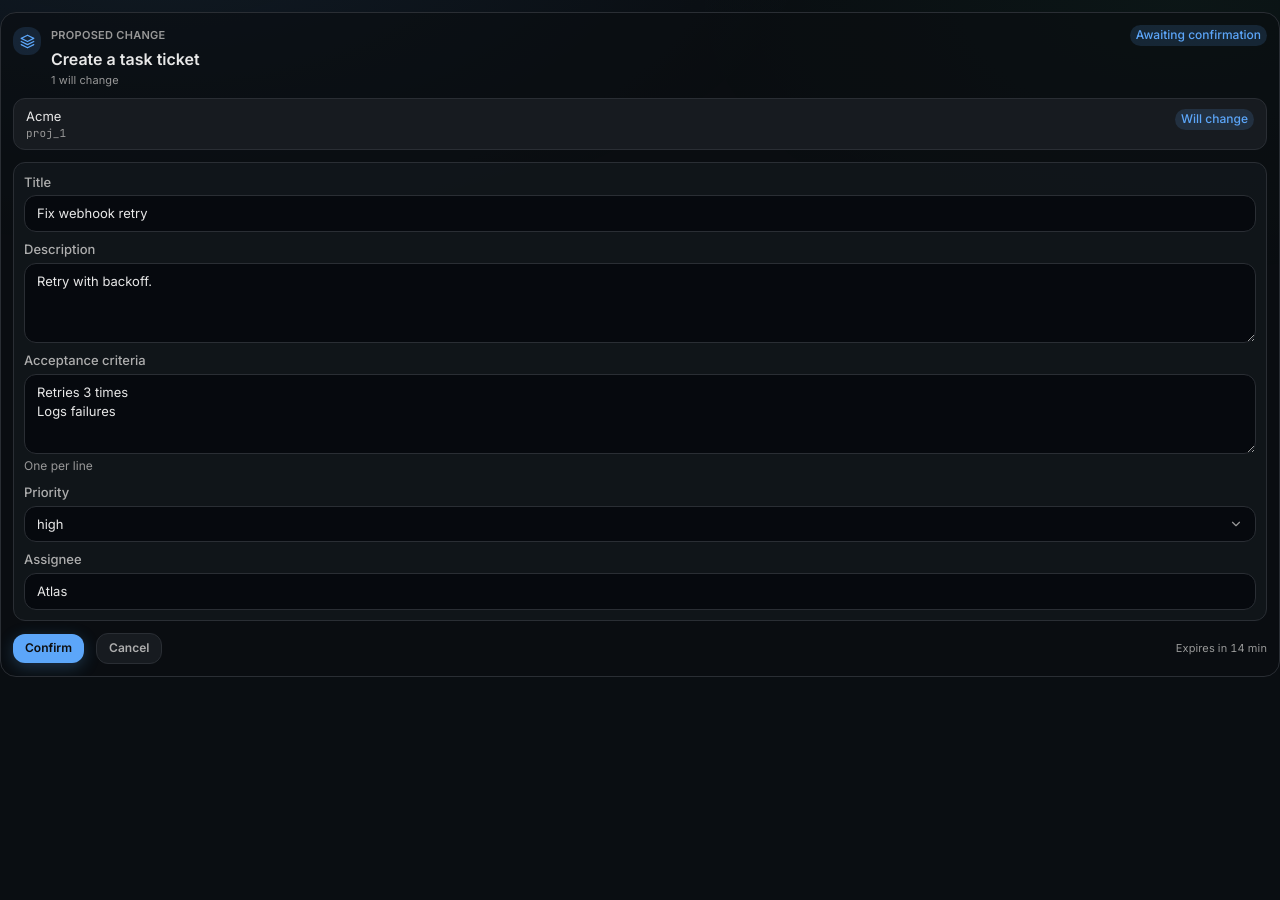
Test: HelperActionCard › confirm sends the edited create-ticket body and links the new ticket
Replace the text in the field labelled "Title" with "Add retry with exponential backoff": {"x": 640, "y": 214} [24, 195, 1256, 232]
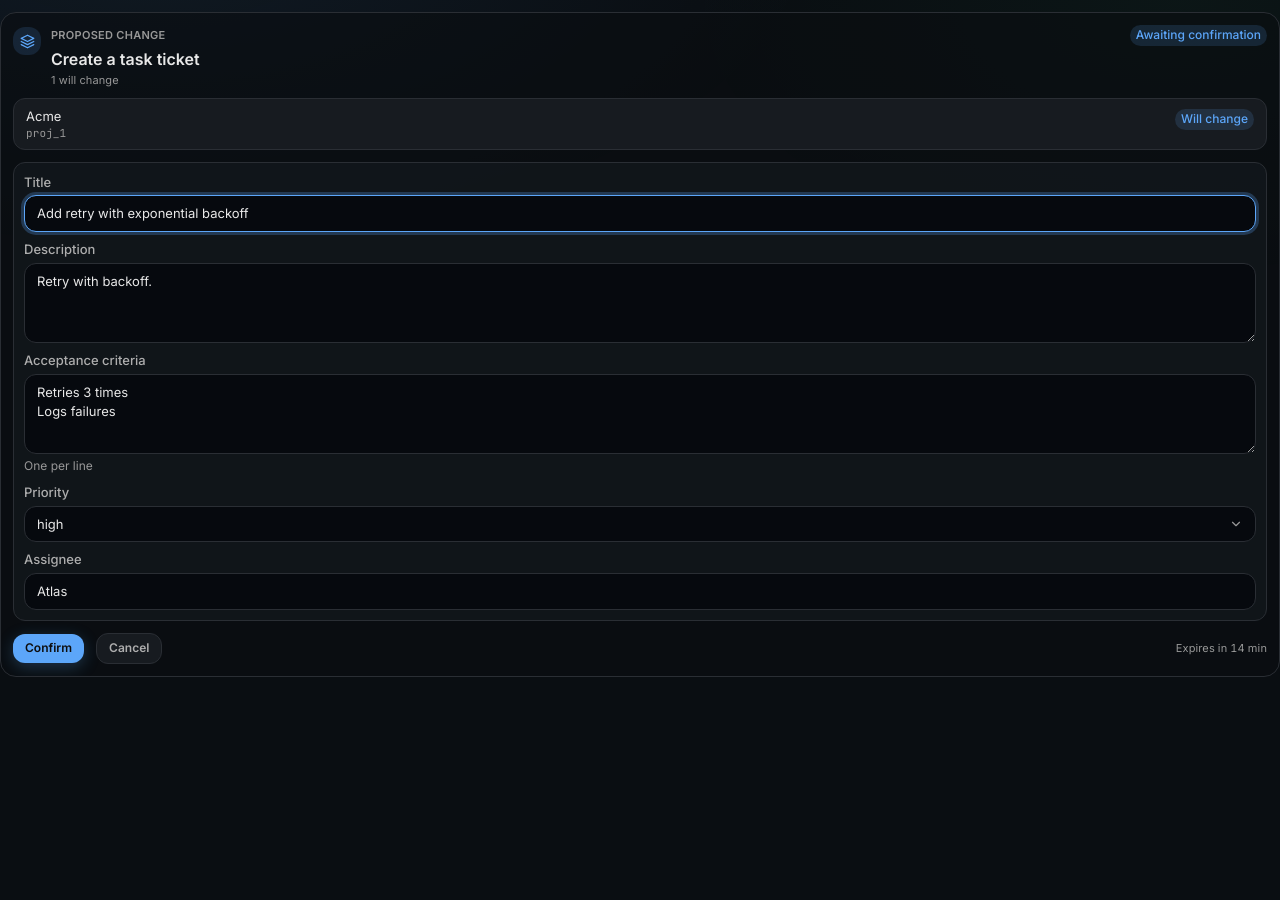
Click the button "Confirm": {"x": 49, "y": 648} [13, 634, 84, 663]
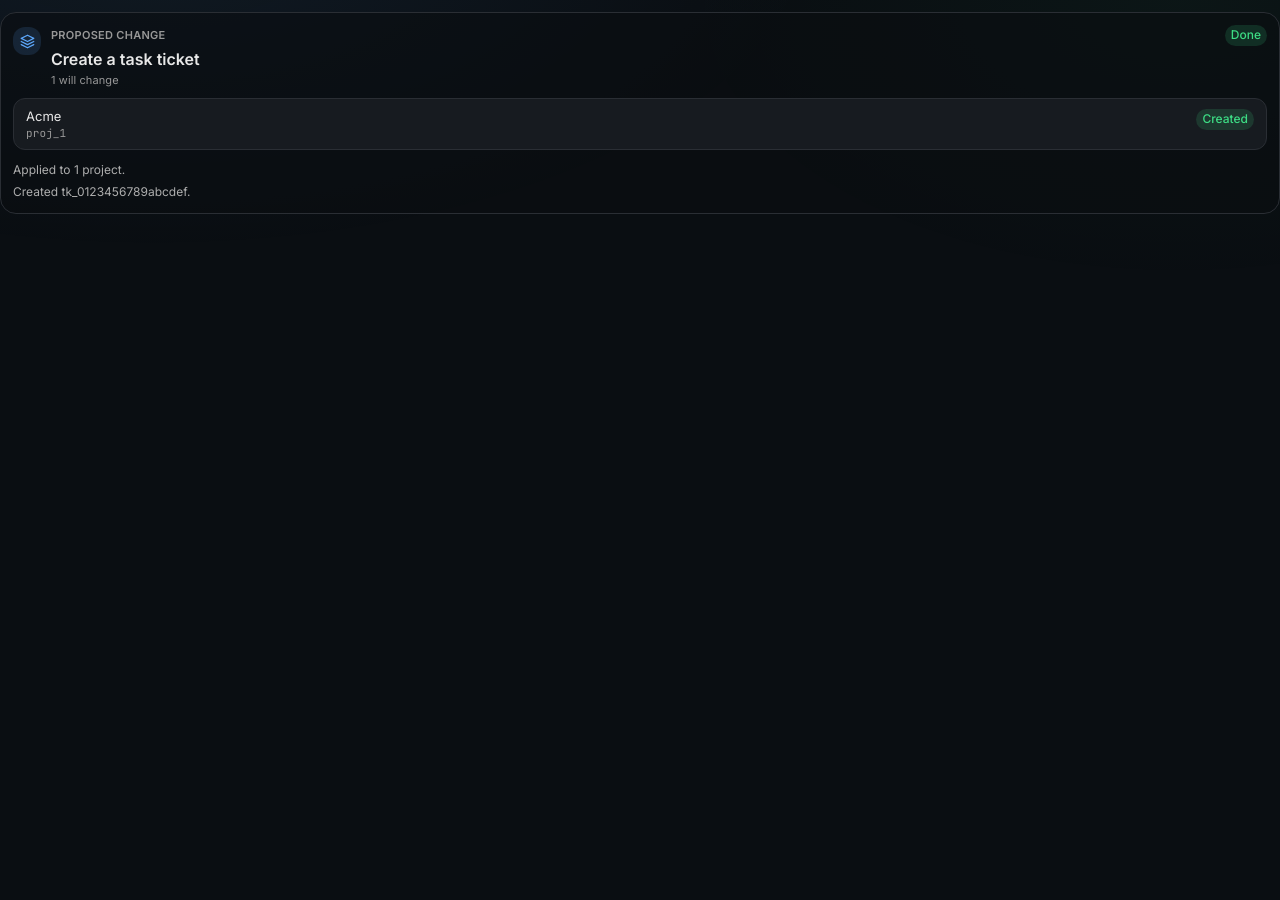
Now the text "Created" is shown, box [1196, 109, 1254, 130]
Now the text "Created tk_0123456789abcdef." is shown, box [13, 184, 190, 199]
